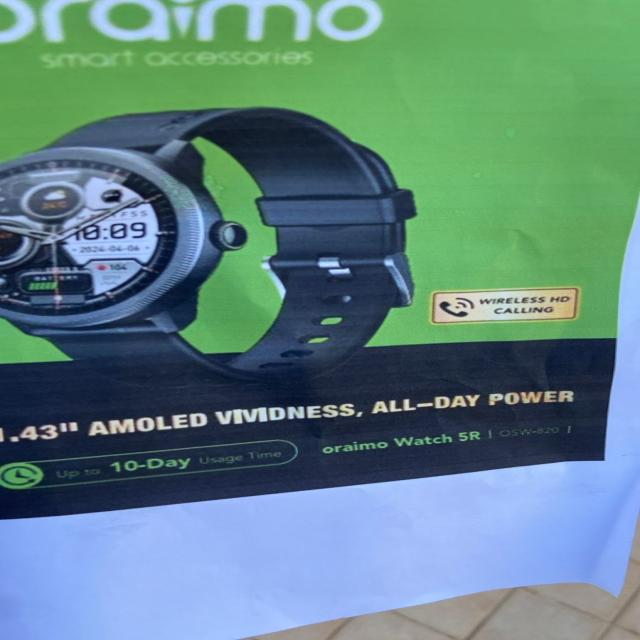Oraimo Watch 5R OSW-820: (322, 421, 581, 464)
